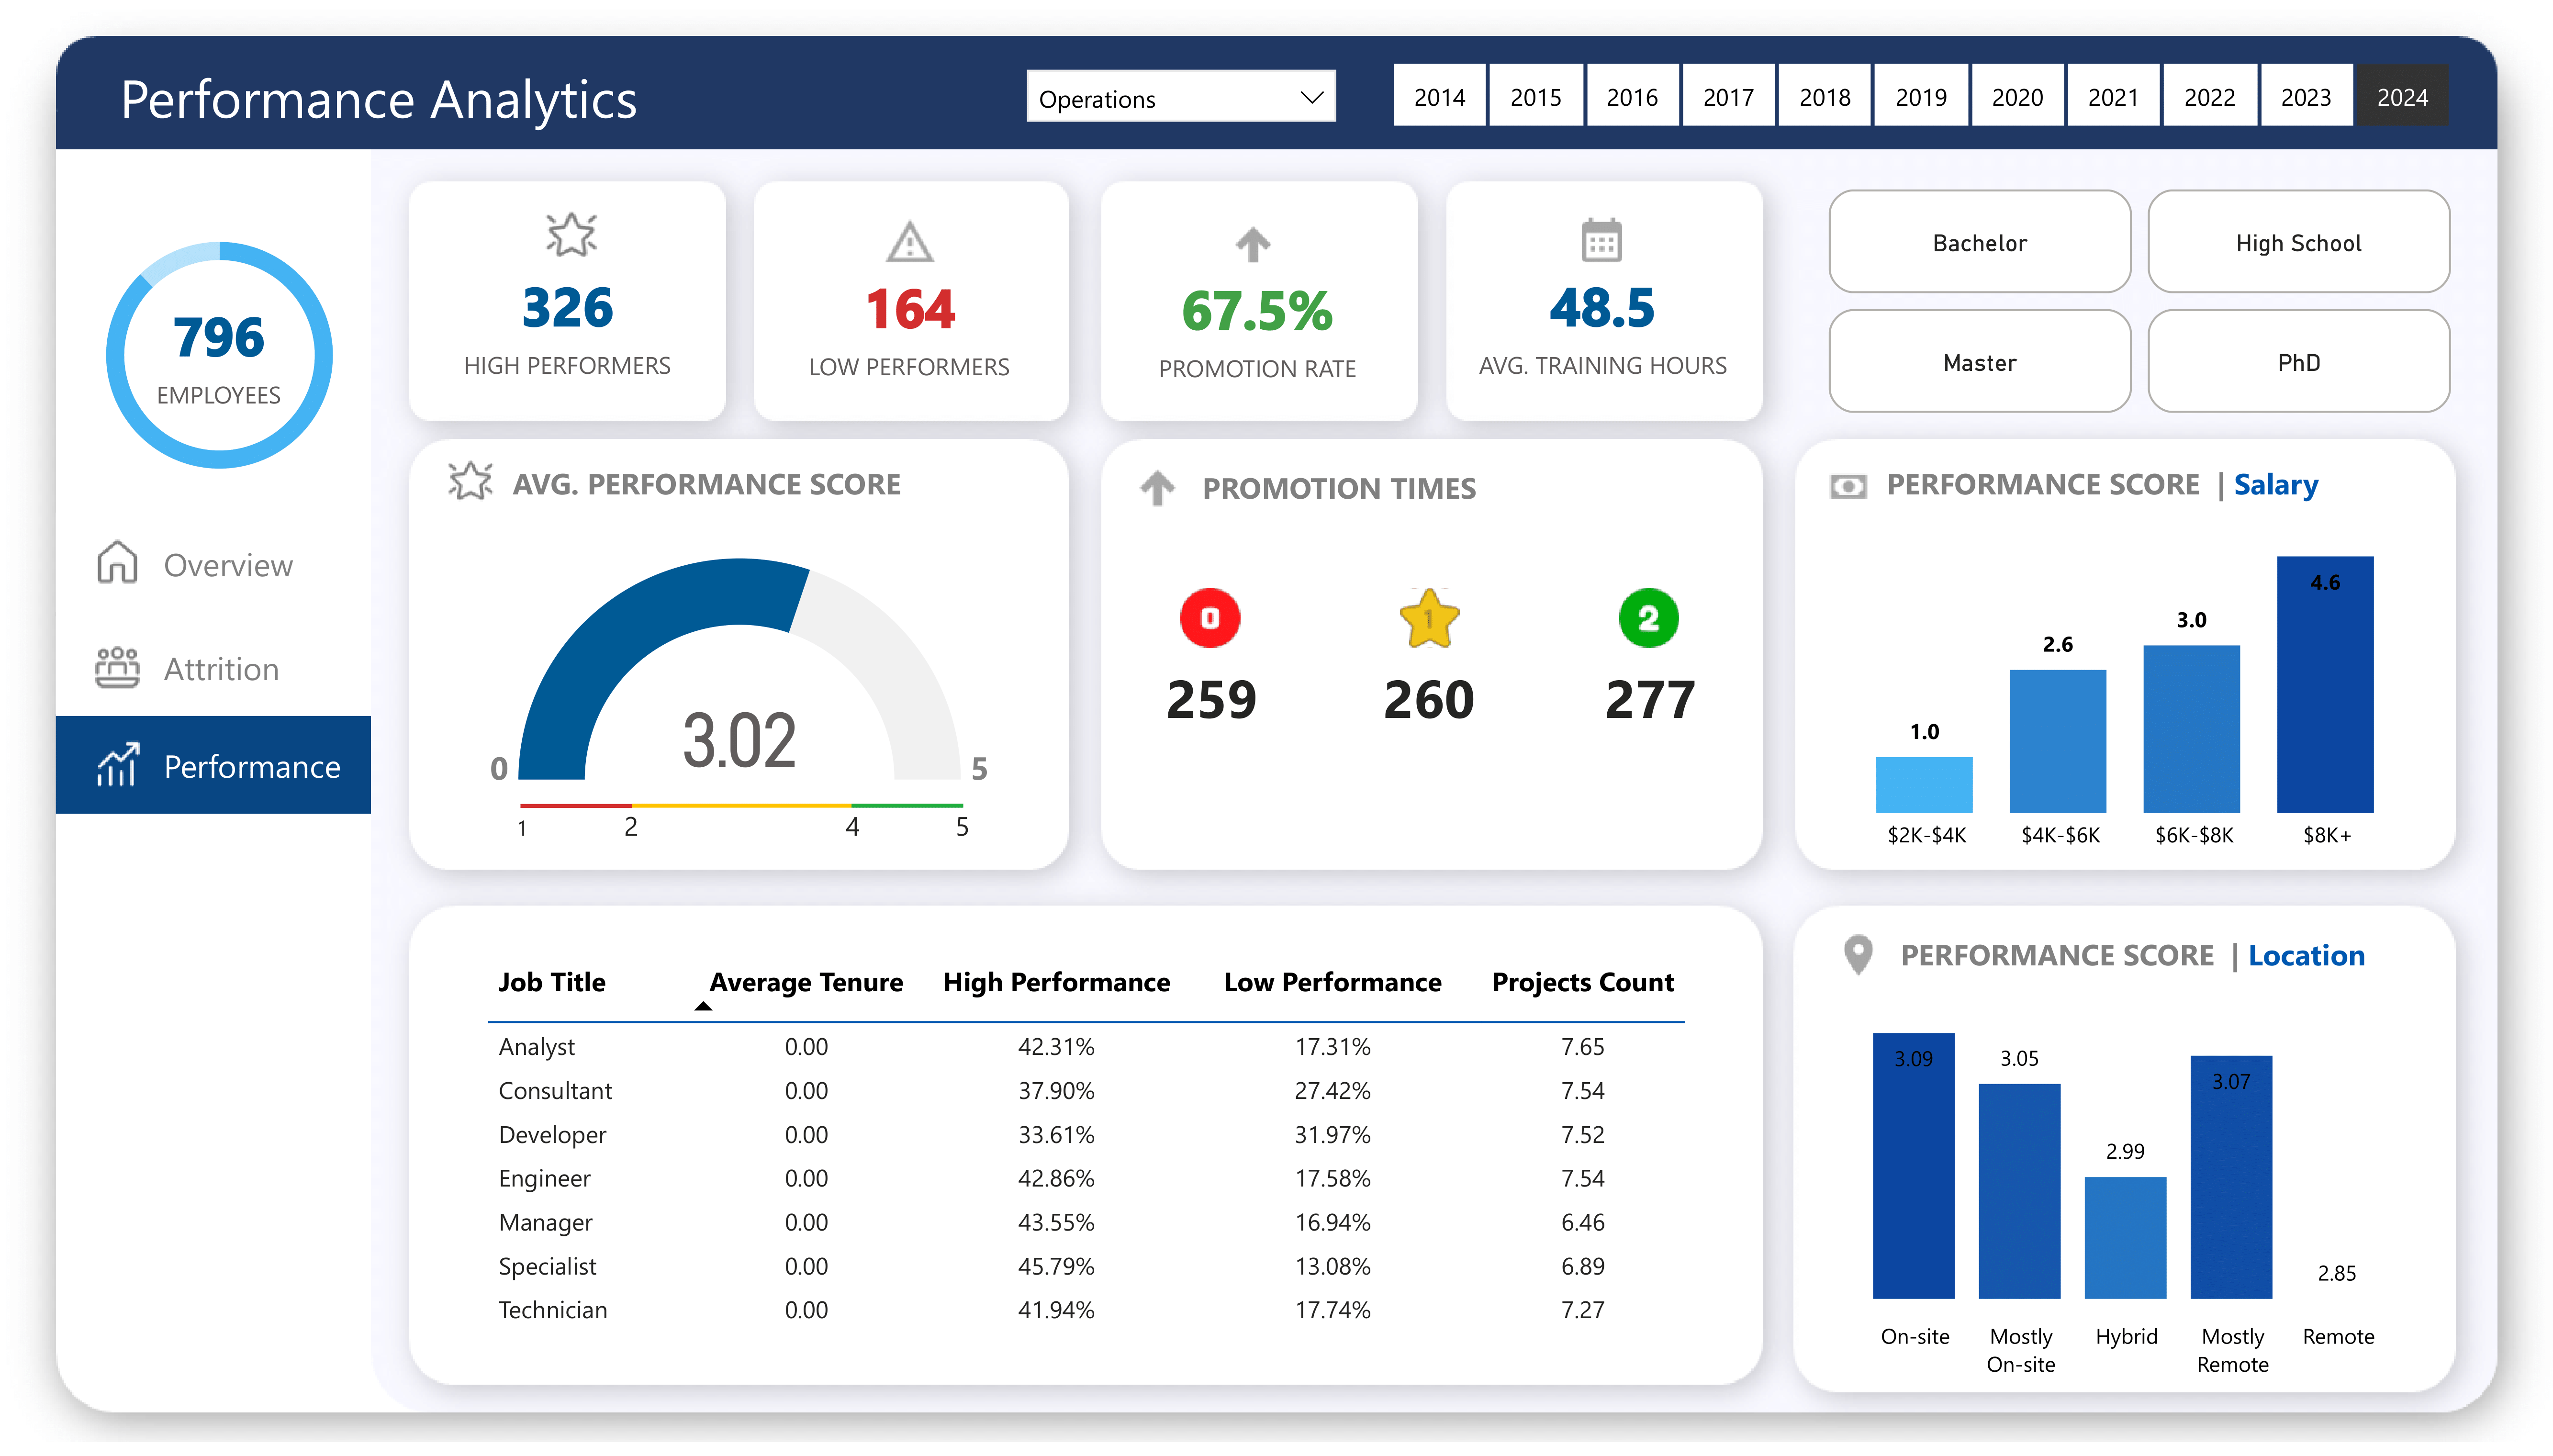

Layout of this report page (visuals, bound fields, positions):
{"tool":"powerbi","page":{"name":"Performance analytics","canvas":[1280,720],"ordinal":2},"visuals":[{"type":"textbox","box":[55,20,282.9,50],"z":0},{"type":"shape","box":[260.7,392.8,56,12.3],"z":0,"group":"g11"},{"type":"actionButton","title":"Button Remote Work","box":[439.5,98.9,34.7,35.3],"z":1000,"group":"g3"},{"type":"actionButton","title":"Button Performance","box":[27.8,353.4,158,50],"z":1000},{"type":"shape","box":[316.9,392.9,110,12],"z":1000,"group":"g11"},{"type":"actionButton","title":"Button Performance Active","box":[27.8,353.4,158,50],"z":2000},{"type":"shape","box":[426.9,392.9,56,12],"z":2000,"group":"g11"},{"type":"card","title":"Card Remote Work","fields":{"Values":["*Measures.Low_Performers"]},"box":[385.5,112.9,142.3,89.7],"z":3000,"group":"g3"},{"type":"actionButton","title":"Button Attrition","box":[27.9,303.6,158.2,50],"z":3000},{"type":"actionButton","title":"Button Perform Score","box":[268.5,95.4,35.3,35.3],"z":5000,"group":"g4"},{"type":"actionButton","title":"Button Perform Score","box":[220,220.3,32,32],"z":5000,"group":"g6"},{"type":"actionButton","title":"Button Overview","box":[27.8,252.2,157.8,50],"z":5000},{"type":"actionButton","title":"Button Perform Score","box":[911.1,223.5,32,32],"z":6000,"group":"g10"},{"type":"group","id":"g1","title":"Group 1","box":[560,99.8,141.4,102.9],"z":7000},{"type":"actionButton","title":"Button Perform Score","box":[563.5,220.3,35.1,40],"z":7000,"group":"g5"},{"type":"group","id":"g2","title":"Group 2","box":[732.9,99.1,142.1,103.6],"z":8000},{"type":"group","id":"g3","title":"Group 5","box":[385.5,98.9,142.5,103.8],"z":9000},{"type":"card","title":"Card Salary","fields":{"Values":["*Measures.High_Performers"]},"box":[213.6,112.6,141.2,90],"z":9000,"group":"g4"},{"type":"clusteredColumnChart","title":"Avg. Performance score | SALARY","fields":{"Category":["Employee.Salary_Bucket"],"Y":["*Measures.AvgPerformanceScore"]},"box":[908.6,260,315.7,170.7],"z":10000},{"type":"actionButton","title":"Button Attrition Rate","box":[698.2,286.1,37.9,37.9],"z":11000,"group":"g9"},{"type":"clusteredColumnChart","title":"Avg. Performance score | LOCATION","fields":{"Category":["Employee.Remote_Category"],"Y":["*Measures.AvgPerformanceScore"]},"box":[906.4,499.3,314.3,194.3],"z":11000},{"type":"group","id":"g4","title":"Group 4","box":[213.6,95.4,141.2,107.2],"z":12000},{"type":"slicer","fields":{"Values":["Employee.Department"]},"box":[505,20,175,45],"z":13000},{"type":"slicer","fields":{"Values":["DateTable.Year"]},"box":[673.3,20,579.2,45],"z":14000},{"type":"actionButton","title":"Button Active Employees","box":[785.5,99.1,35.3,34.7],"z":14000,"group":"g2"},{"type":"advancedSlicerVisual","fields":{"Values":["Employee.Education_Level"]},"box":[912.4,85.3,323,122.2],"z":15000},{"type":"card","title":"Card Active Employees","fields":{"Values":["*Measures.AvgTrainingHours"]},"box":[732.9,112.5,142,90],"z":15000,"group":"g2"},{"type":"actionButton","title":"Button Total Employees","box":[611.3,99.8,35,35],"z":16000,"group":"g1"},{"type":"group","id":"g5","title":"Group 9","box":[563.5,220.3,234.3,40],"z":16000},{"type":"card","title":"Card Total Employees","fields":{"Values":["*Measures.Promotion_Rate"]},"box":[560,113.6,141.3,89.3],"z":17000,"group":"g1"},{"type":"group","id":"g6","title":"Group 4","box":[220,220.3,246.4,33.6],"z":17000},{"type":"gauge","title":"AVG. PERFORMANCE SCORE","fields":{"Y":["*Measures.AvgPerformanceScore"],"MaxValue":["*Measures.MaxPerformance"]},"box":[227.1,269.7,287.7,125.9],"z":17000,"group":"g7"},{"type":"group","id":"g7","title":"Group 3","box":[227.1,269.7,287.9,156.4],"z":18000},{"type":"group","id":"g8","title":"Group 6","box":[915.7,457.7,293.1,32.4],"z":19000},{"type":"textbox","box":[941,222.1,238.6,33.6],"z":20000,"group":"g10"},{"type":"textbox","box":[598.7,224.5,199.1,32.7],"z":20000,"group":"g5"},{"type":"group","id":"g9","title":"Group 7","box":[557.1,286.1,321.4,81.7],"z":20000},{"type":"card","fields":{"Values":["*Measures.promotion0"]},"box":[557.1,324.2,101.4,43.6],"z":20000,"group":"g9"},{"type":"tableEx","fields":{"Values":["Employee.Job_Title","*Measures.Average Tenure","*Measures.HighPerformancePct","*Measures.LowPerformancePct","*Measures.Avg_Projects_Handled"]},"box":[239.3,470,616.4,204.3],"z":21000},{"type":"textbox","box":[252.1,222.4,214.3,31.4],"z":21006,"group":"g6"},{"type":"group","id":"g10","title":"Group 10","box":[911.1,222.1,268.5,33.6],"z":22000},{"type":"actionButton","title":"Button Attrition Rate","box":[807.8,286.1,37.9,37.9],"z":22000,"group":"g9"},{"type":"card","title":"Card Total Employees","fields":{"Values":["*Measures.TotalEmployees"]},"box":[38.6,127.1,141.4,90],"z":23000},{"type":"donutChart","fields":{"Y":["*Measures.ActiveEmployeeCount","*Measures.ExitEmployee"]},"box":[33.6,75.7,152.1,194.3],"z":24000},{"type":"actionButton","title":"Button Attrition Rate","box":[588.5,286.4,37.9,37.9],"z":24000,"group":"g9"},{"type":"card","fields":{"Values":["*Measures.promotion1"]},"box":[666.4,324.2,101.4,43.6],"z":26000,"group":"g9"},{"type":"textbox","box":[254.4,394.8,15,31.4],"z":26000,"group":"g7"},{"type":"card","fields":{"Values":["*Measures.promotion2"]},"box":[777.1,324.2,101.4,43.6],"z":27000,"group":"g9"},{"type":"textbox","box":[474.3,394.8,17.7,31.4],"z":27000,"group":"g7"},{"type":"textbox","box":[419.4,394.8,17,31.5],"z":28000,"group":"g7"},{"type":"actionButton","title":"Button Perform Score","box":[915.7,457.7,32,32],"z":28000,"group":"g8"},{"type":"textbox","box":[307.9,394.8,18,31],"z":29000,"group":"g7"},{"type":"textbox","box":[948,457.9,260.7,32.1],"z":29000,"group":"g8"},{"type":"group","id":"g11","title":"Group 8","box":[260.7,392.8,222.2,12.3],"z":30000,"group":"g7"}]}

Visuals, with their boxes in screenshot pixels (x1, y1, x2, y2), scaled from the page's 1280x720 canvas onto the 2553x1456 screenshot:
textbox: crop(110, 40, 674, 142)
shape: crop(520, 795, 632, 819)
"Button Remote Work" actionButton: crop(876, 200, 946, 271)
"Button Performance" actionButton: crop(56, 715, 370, 816)
shape: crop(632, 795, 851, 819)
"Button Performance Active" actionButton: crop(56, 715, 370, 816)
shape: crop(851, 795, 963, 819)
"Card Remote Work" card: crop(769, 228, 1053, 410)
"Button Attrition" actionButton: crop(56, 614, 371, 715)
"Button Perform Score" actionButton: crop(536, 193, 606, 264)
"Button Perform Score" actionButton: crop(439, 446, 503, 510)
"Button Overview" actionButton: crop(56, 510, 370, 611)
"Button Perform Score" actionButton: crop(1817, 452, 1881, 516)
"Group 1" group: crop(1117, 202, 1399, 410)
"Button Perform Score" actionButton: crop(1124, 446, 1194, 526)
"Group 2" group: crop(1462, 201, 1745, 410)
"Group 5" group: crop(769, 200, 1053, 410)
"Card Salary" card: crop(426, 228, 708, 410)
"Avg. Performance score | SALARY" clusteredColumnChart: crop(1812, 526, 2442, 871)
"Button Attrition Rate" actionButton: crop(1393, 579, 1468, 655)
"Avg. Performance score | LOCATION" clusteredColumnChart: crop(1808, 1010, 2435, 1402)
"Group 4" group: crop(426, 193, 708, 410)
slicer - Employee.Department: crop(1007, 40, 1356, 132)
slicer - DateTable.Year: crop(1343, 40, 2498, 132)
"Button Active Employees" actionButton: crop(1567, 201, 1637, 270)
advancedSlicerVisual - Employee.Education_Level: crop(1820, 172, 2464, 420)
"Card Active Employees" card: crop(1462, 227, 1745, 410)
"Button Total Employees" actionButton: crop(1219, 202, 1289, 273)
"Group 9" group: crop(1124, 446, 1591, 526)
"Card Total Employees" card: crop(1117, 230, 1399, 410)
"Group 4" group: crop(439, 446, 930, 514)
"AVG. PERFORMANCE SCORE" gauge: crop(453, 545, 1027, 800)
"Group 3" group: crop(453, 545, 1027, 862)
"Group 6" group: crop(1826, 926, 2411, 991)
textbox: crop(1877, 449, 2353, 517)
textbox: crop(1194, 454, 1591, 520)
"Group 7" group: crop(1111, 579, 1752, 744)
card - *Measures.promotion0: crop(1111, 656, 1313, 744)
tableEx - Employee.Job_Title x *Measures.Average Tenure: crop(477, 951, 1707, 1364)
textbox: crop(503, 450, 930, 513)
"Group 10" group: crop(1817, 449, 2353, 517)
"Button Attrition Rate" actionButton: crop(1611, 579, 1687, 655)
"Card Total Employees" card: crop(77, 257, 359, 439)
donutChart - *Measures.ActiveEmployeeCount x *Measures.ExitEmployee: crop(67, 153, 370, 546)
"Button Attrition Rate" actionButton: crop(1174, 579, 1249, 656)
card - *Measures.promotion1: crop(1329, 656, 1532, 744)
textbox: crop(507, 798, 537, 862)
card - *Measures.promotion2: crop(1550, 656, 1752, 744)
textbox: crop(946, 798, 981, 862)
textbox: crop(837, 798, 871, 862)
"Button Perform Score" actionButton: crop(1826, 926, 1890, 990)
textbox: crop(614, 798, 650, 861)
textbox: crop(1891, 926, 2411, 991)
"Group 8" group: crop(520, 795, 963, 819)
